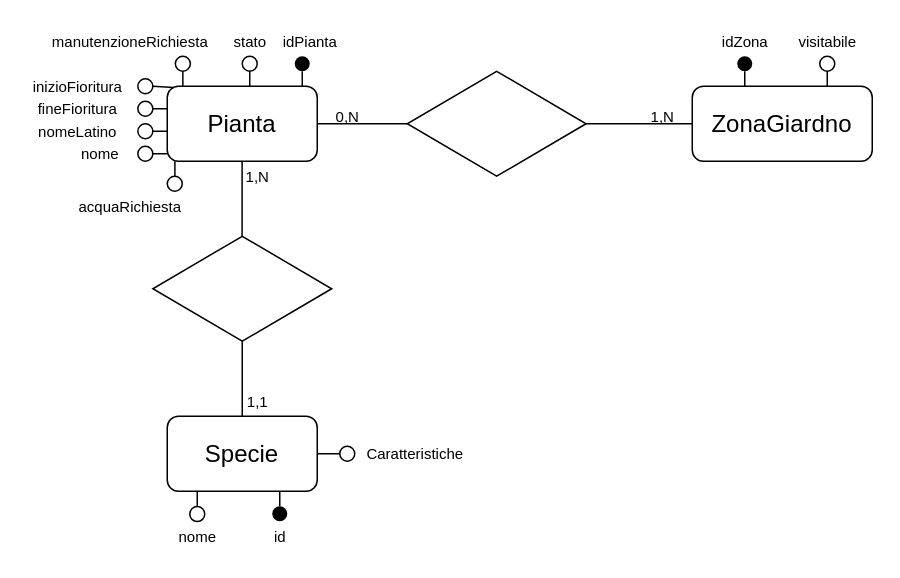
Some shapes in this 900 by 578 pixel diagram are drawn without their labels. The shapes that lost their labels are listed below. From the top down, each one's centre as x and y in pixels, then its label:
At point (496, 123): "Contiene".
At point (241, 288): "Appartiene".
